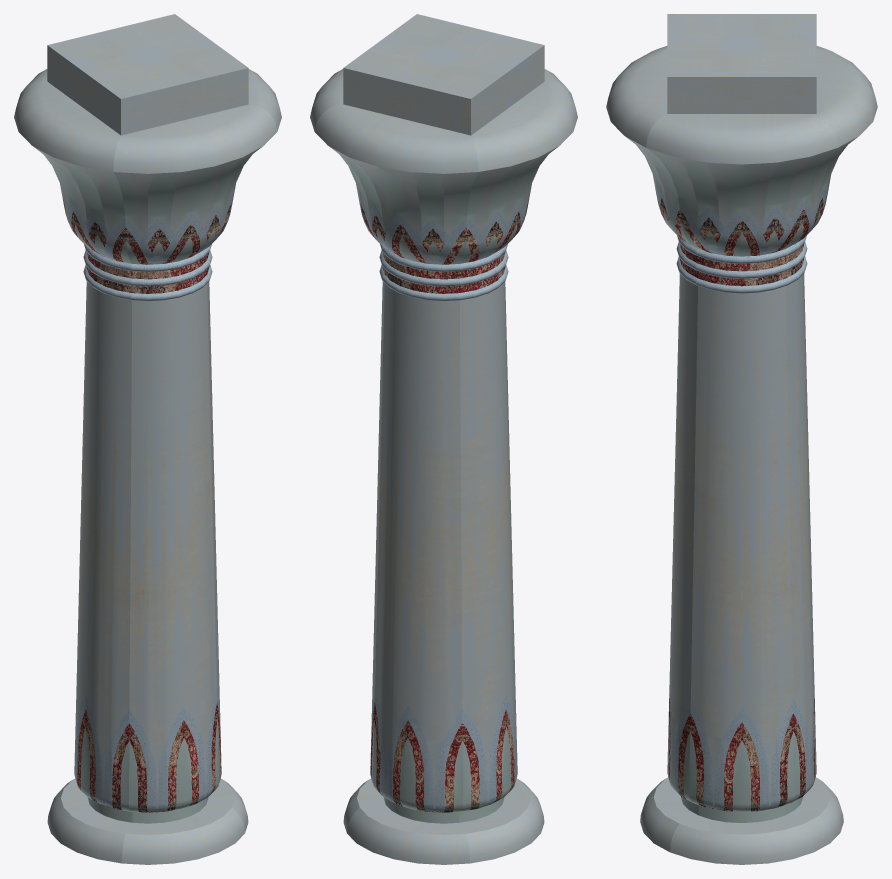
The model's file is EgyptianColumn2 (1).fbx.
3 views of the same model, side by side, from view 1: azimuth 30°, elevation 25°; view 2: azimuth 150°, elevation 25°; view 3: azimuth 270°, elevation 25° (orthographic).
Parts seen in each view (by area): view 1: Component_1_2, Component_1_3, Component_1_1, Component_1_4; view 2: Component_1_4, Component_1_3, Component_1_1, Component_1_2; view 3: Component_1_1, Component_1_2, Component_1_4, Component_1_3.
Part boxes in pixels (x1,y1,x2,y2): Component_1_2: (113,56,277,864); Component_1_3: (14,45,147,863); Component_1_1: (148,14,281,832); Component_1_4: (27,14,174,791); Component_1_4: (314,56,478,864); Component_1_3: (444,45,577,863); Component_1_1: (310,14,443,832); Component_1_2: (417,14,564,791); Component_1_1: (646,45,837,864); Component_1_2: (606,14,741,851); Component_1_4: (742,14,877,851); Component_1_3: (658,14,825,50).
Size of the model in its own units: 52 by 164 by 52.
